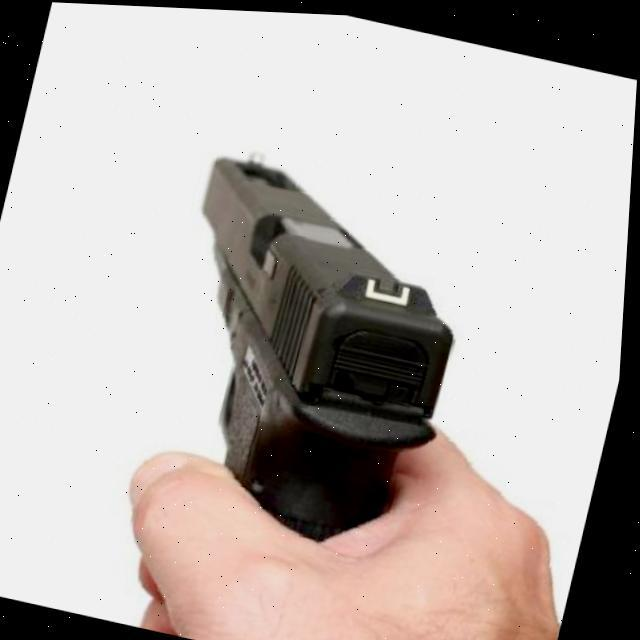gun: (131, 129, 499, 567)
